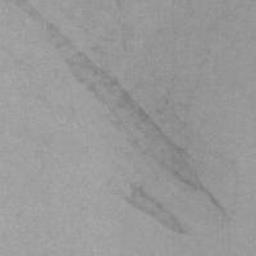Water spot: (9, 0, 228, 214), (120, 183, 197, 237)
